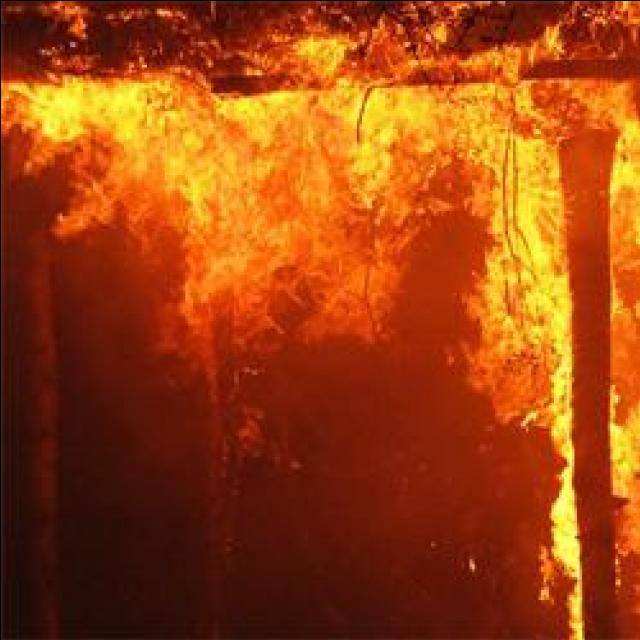fire: (10, 78, 457, 194), (172, 170, 408, 346), (464, 139, 576, 435), (419, 42, 534, 98)
